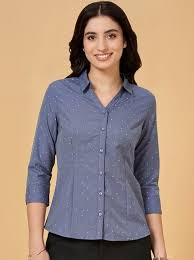shirt: (23, 66, 164, 243)
